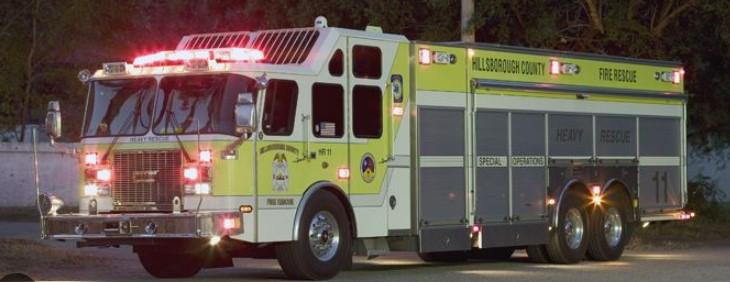firetruck_on: (36, 22, 686, 282)
